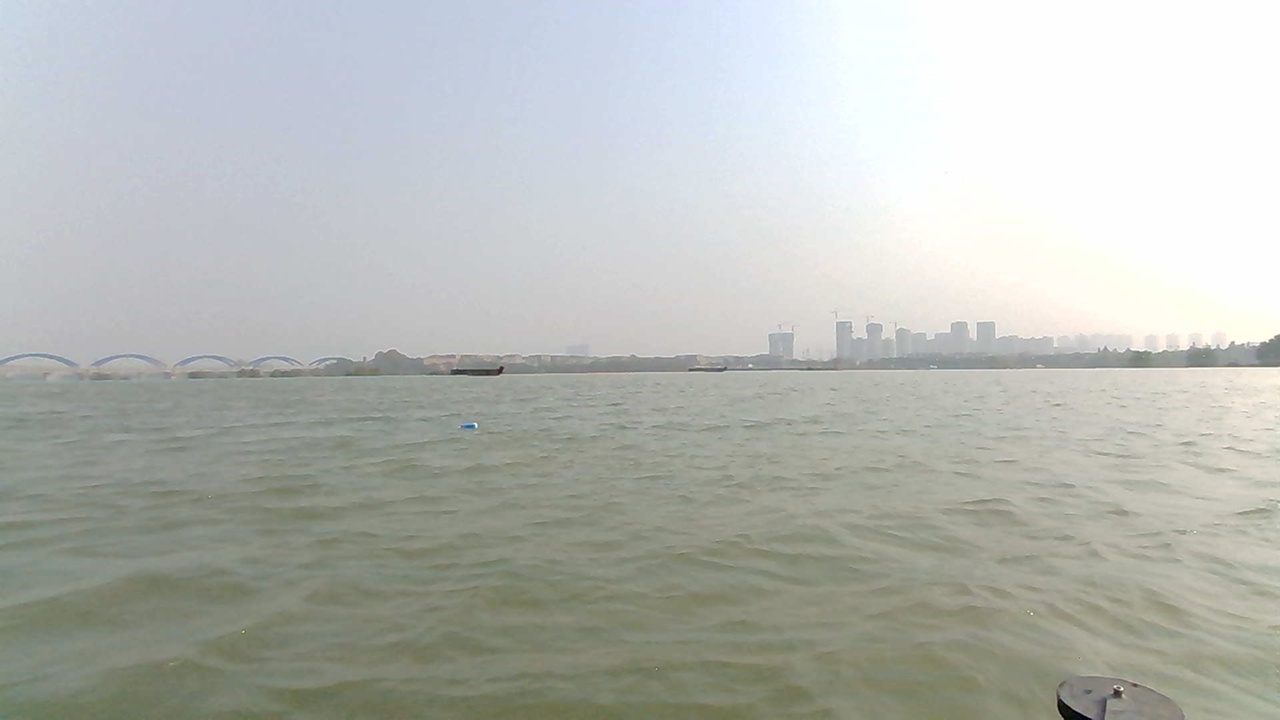bottle: (454, 418, 484, 433)
